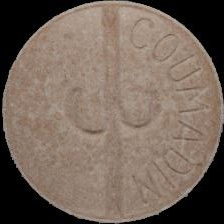43353-492: (0, 0, 224, 224)
